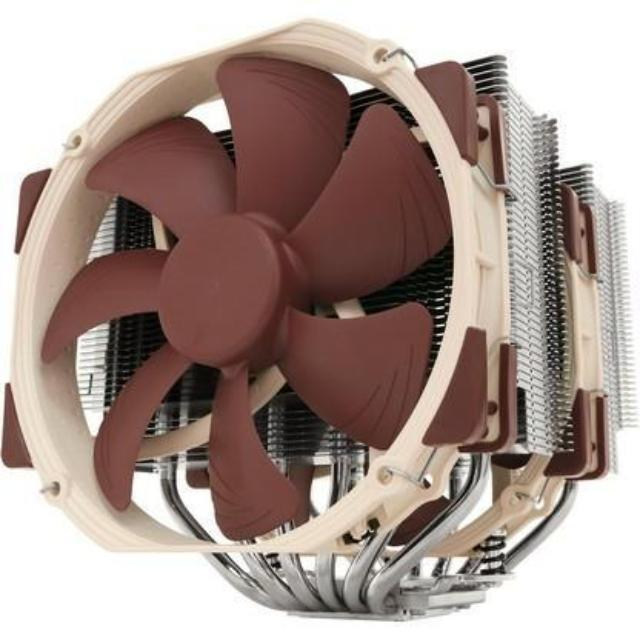CPU_Fan: (0, 12, 640, 626)
